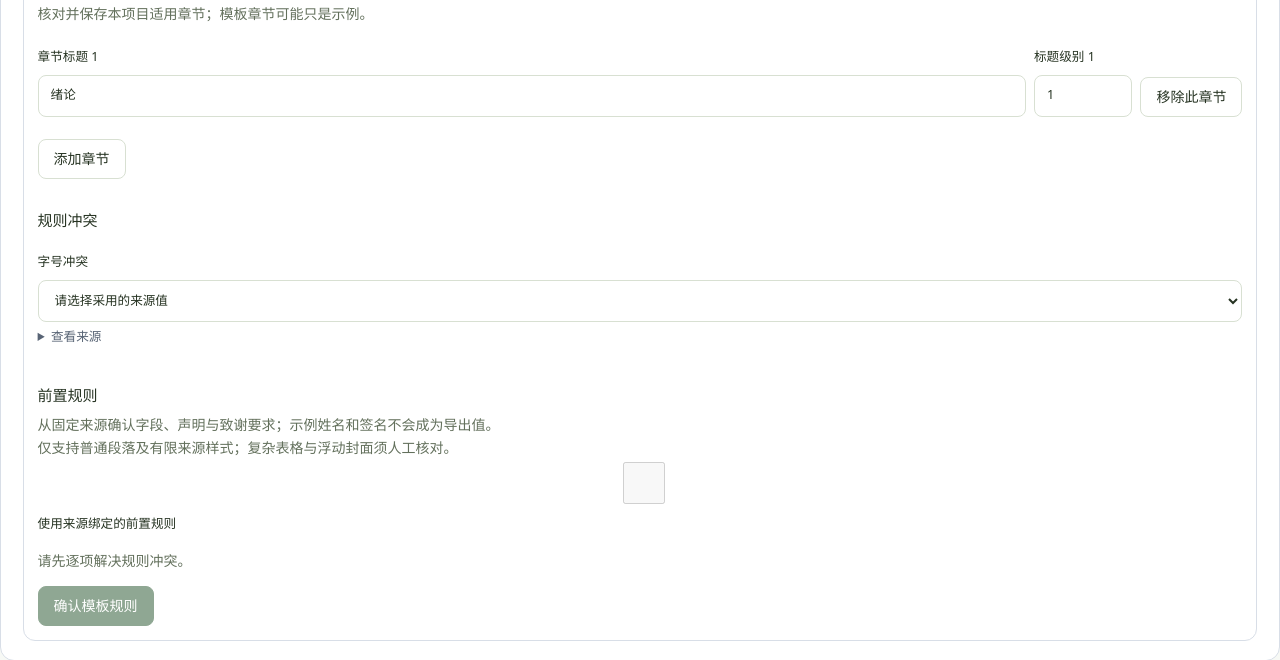
retains the confirmation idempotency key after an unknown response
(page scrolled)
Select "小四 · 小四" in the dropdown labelled "字号冲突": (640, 301) [38,280,1242,322]
(page scrolled)
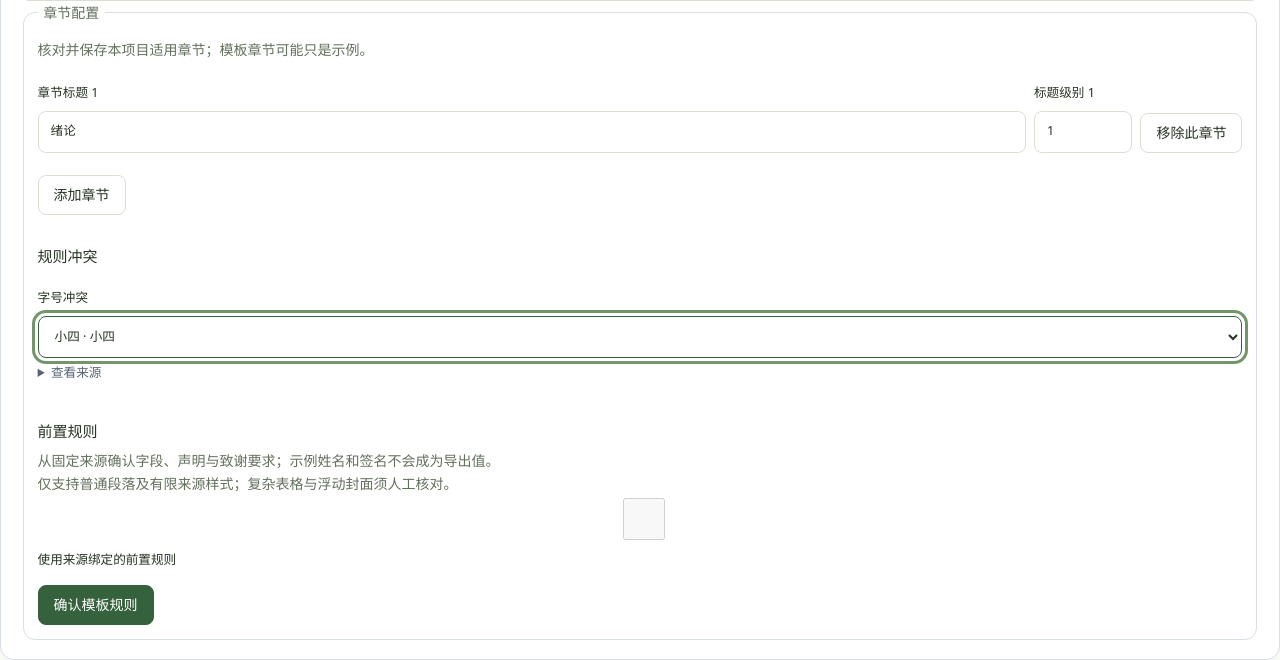
Click the button "确认模板规则": click(96, 604) [38,584,154,624]
(page scrolled)
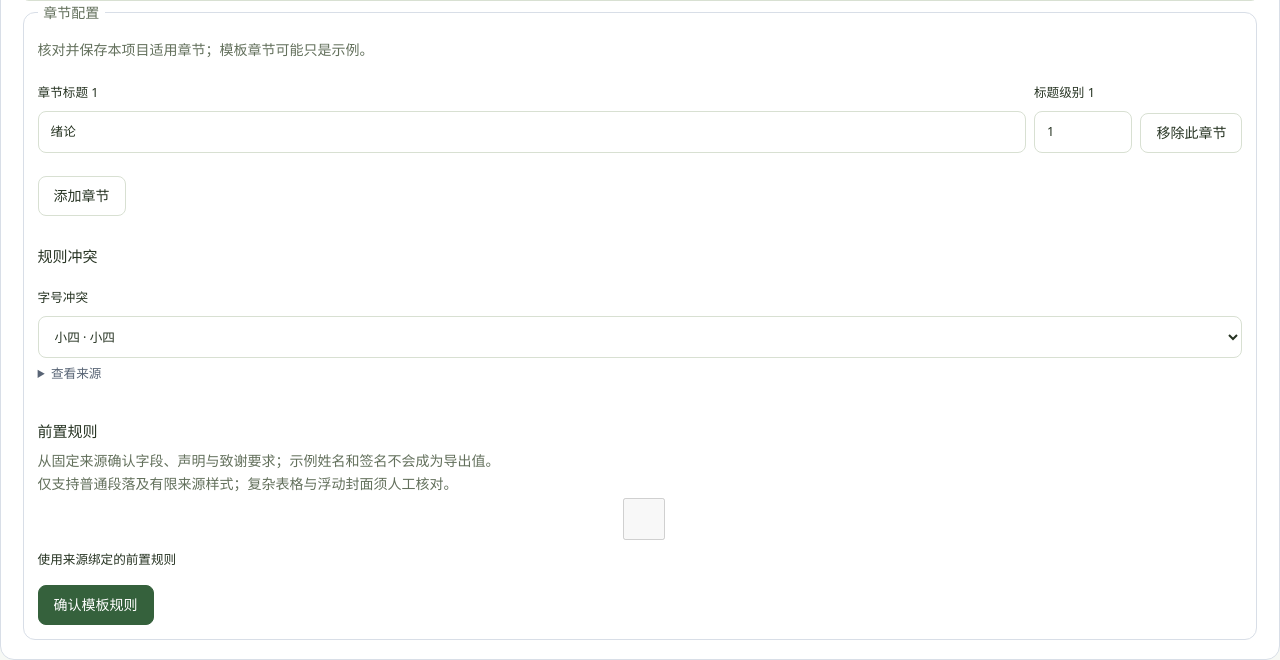
Click the button "确认模板规则": click(96, 605) [38,585,154,625]
(page scrolled)
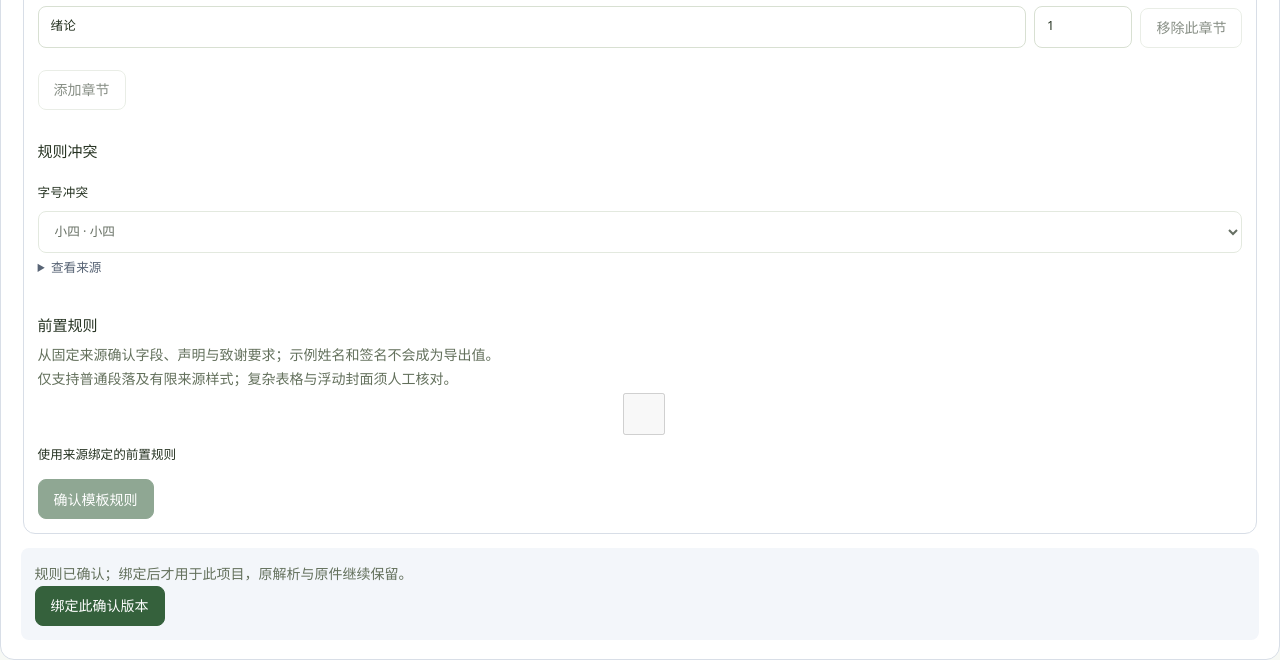
expect the button "绑定此确认版本" is shown: met, box [35,586,165,626]
